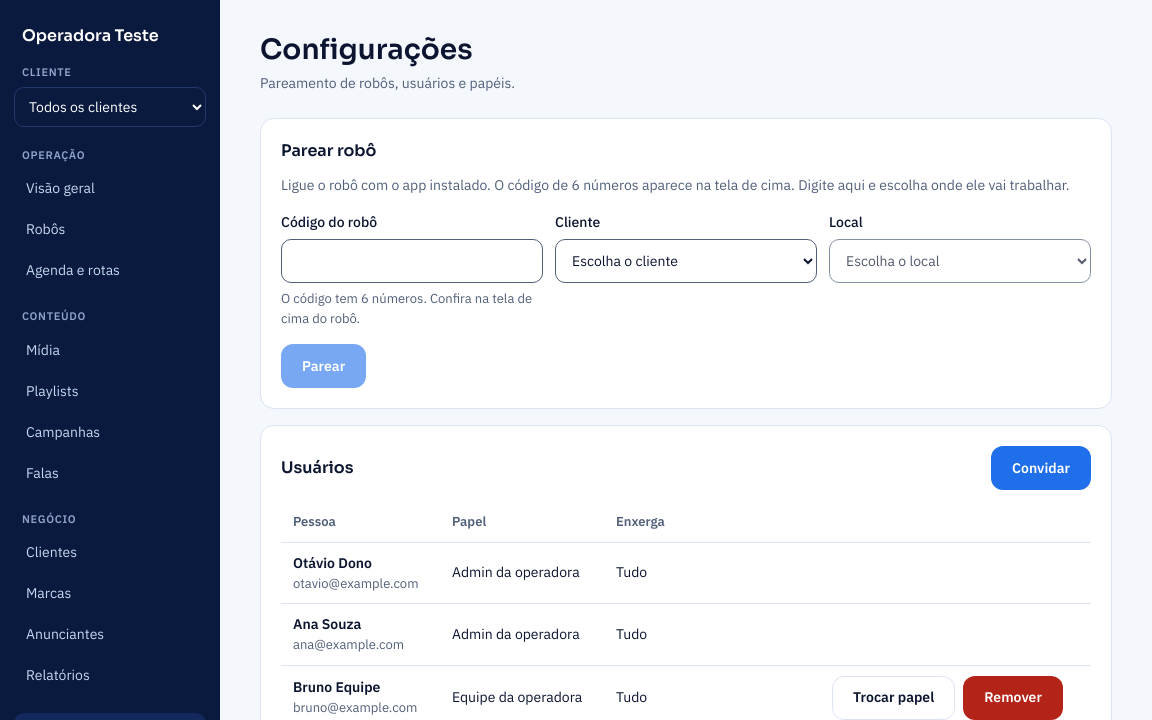
Scenario: inviting › shows the 409 inside the dialog
This screenshot has width=1152, height=720.
Expected: the button with aria-label "Remover Bruno Equipe" is shown, [963, 676, 1063, 719]
Click the button "Convidar". click: [1041, 468]
box: [991, 446, 1091, 490]
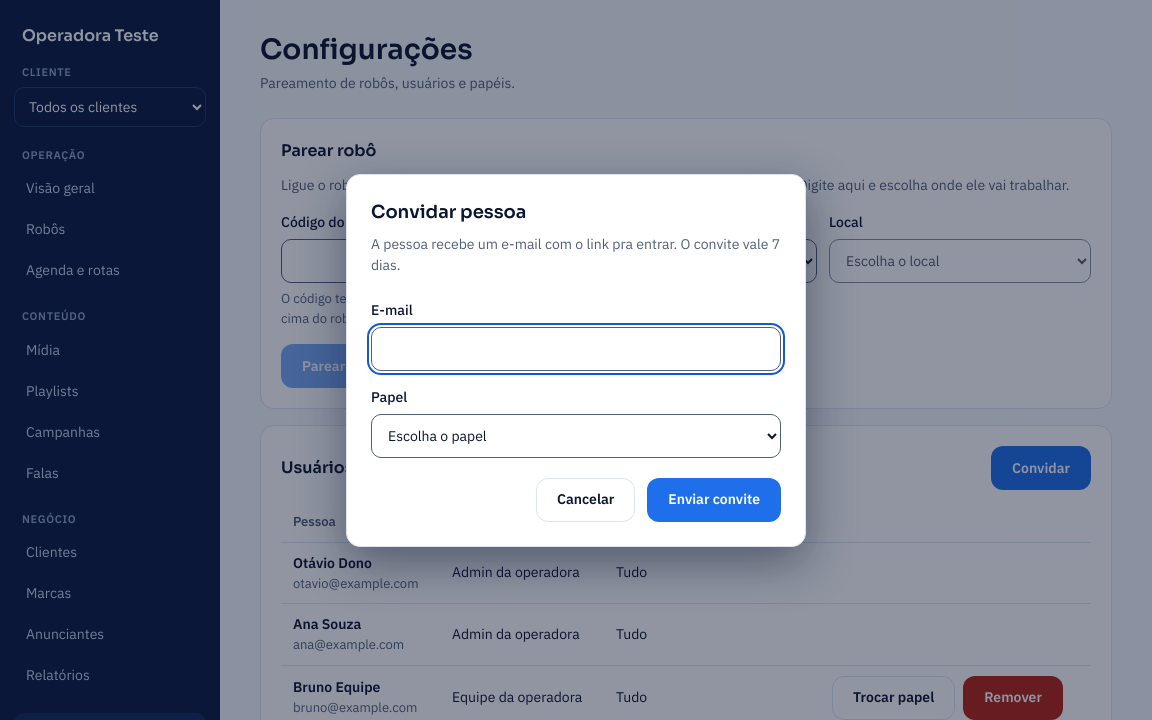
Type "bruno@example.com" into the field labelled "E-mail". click: [576, 348]
box: [371, 326, 781, 370]
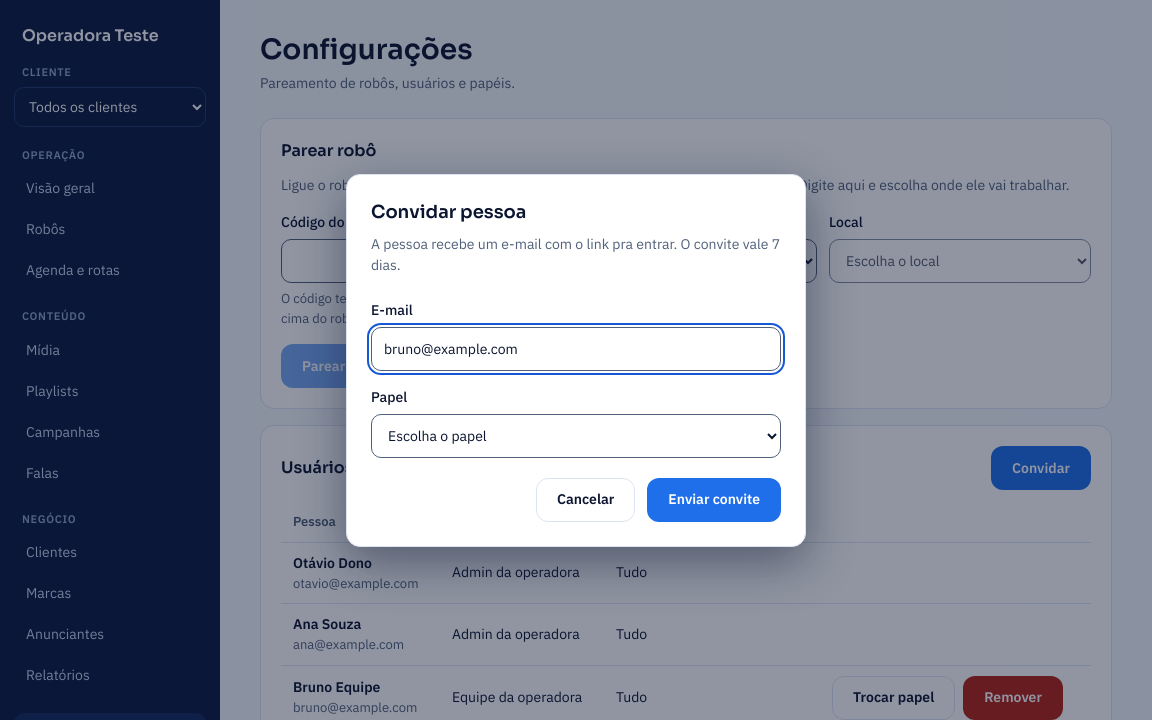
Select "Admin da operadora" in the dropdown labelled "Papel". click: [576, 436]
box: [371, 414, 781, 458]
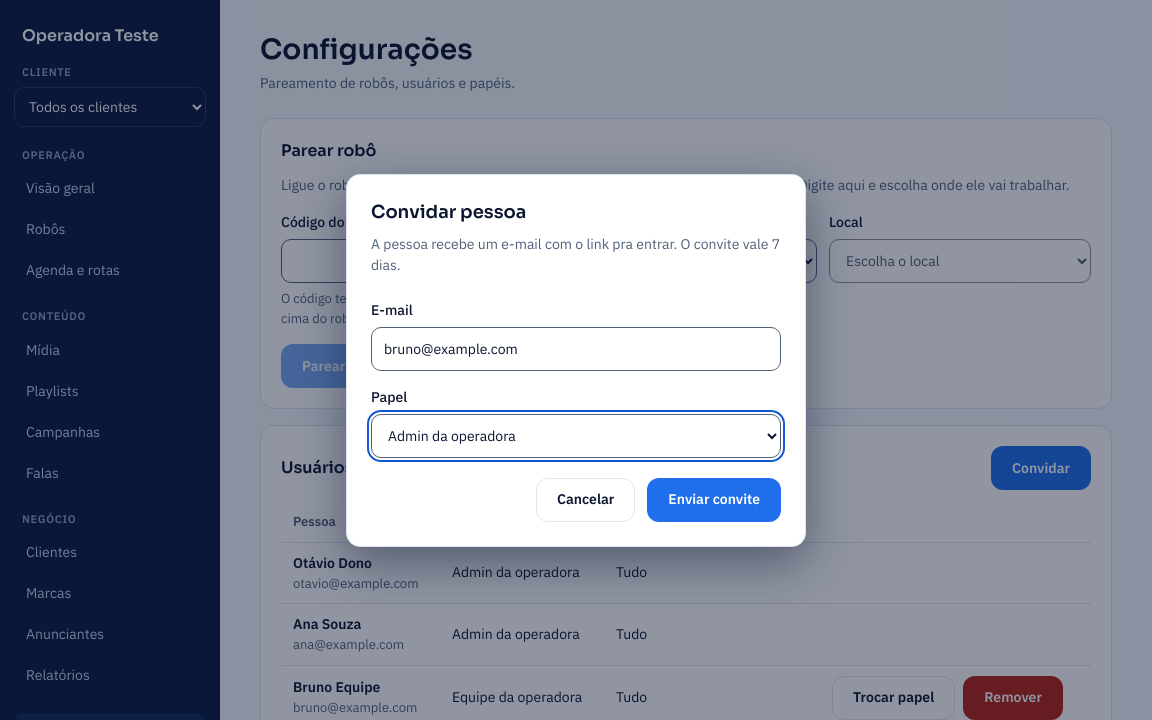
Click the button "Enviar convite". click: [714, 500]
box: [647, 478, 781, 522]
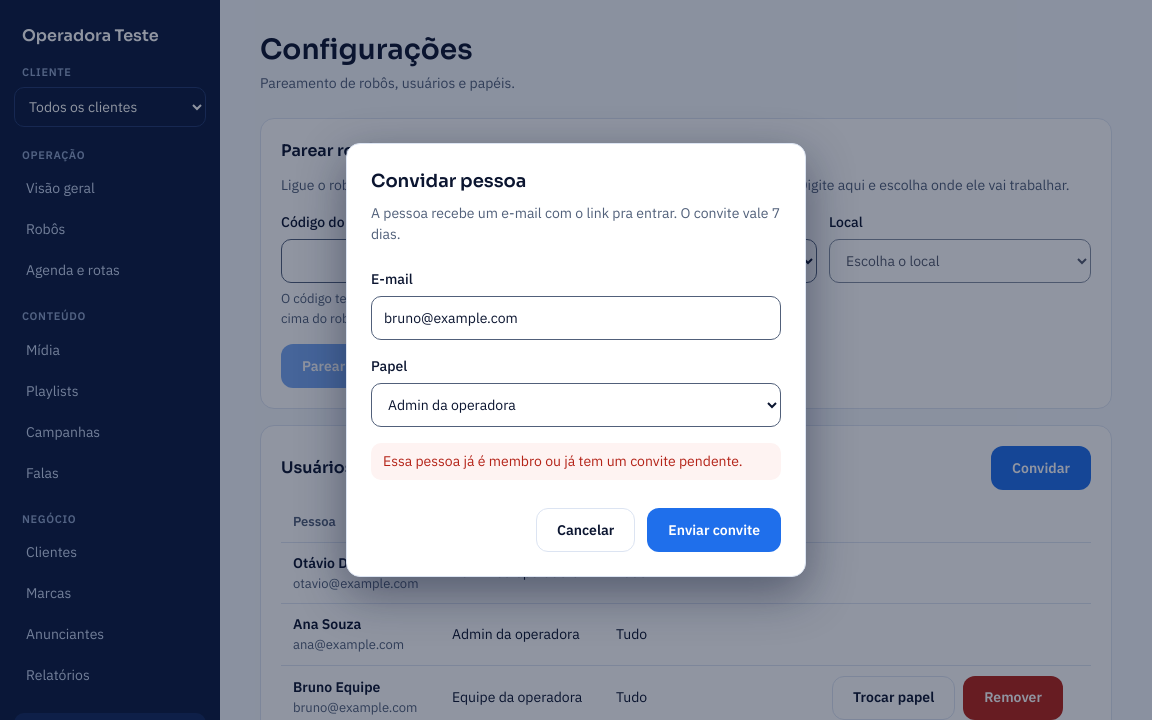
Expected: the message reads "Essa pessoa já é membro ou já tem um convite pendente.", [383, 452, 743, 470]
